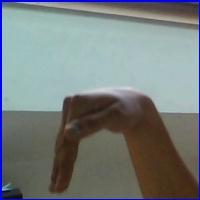A: (41, 81, 161, 191)
